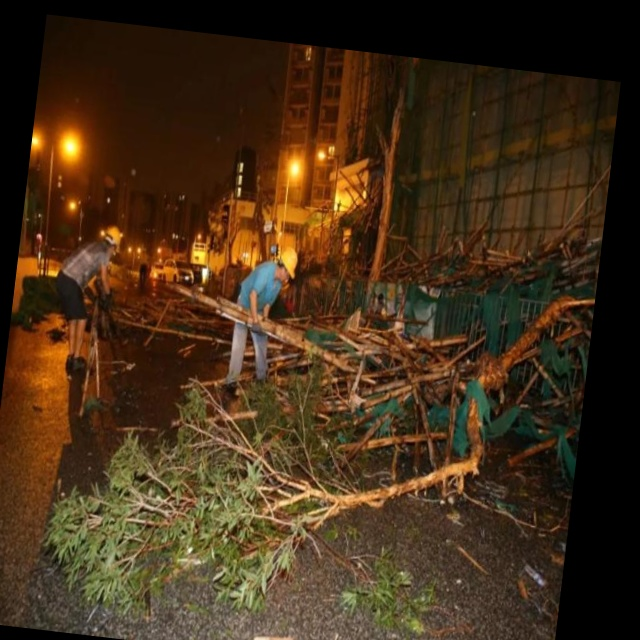Con_Casco: (273, 246, 300, 287)
